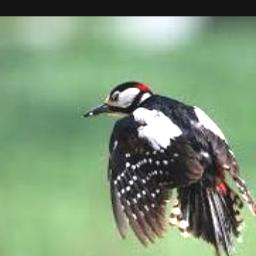Woodpecker: (82, 81, 256, 256)
